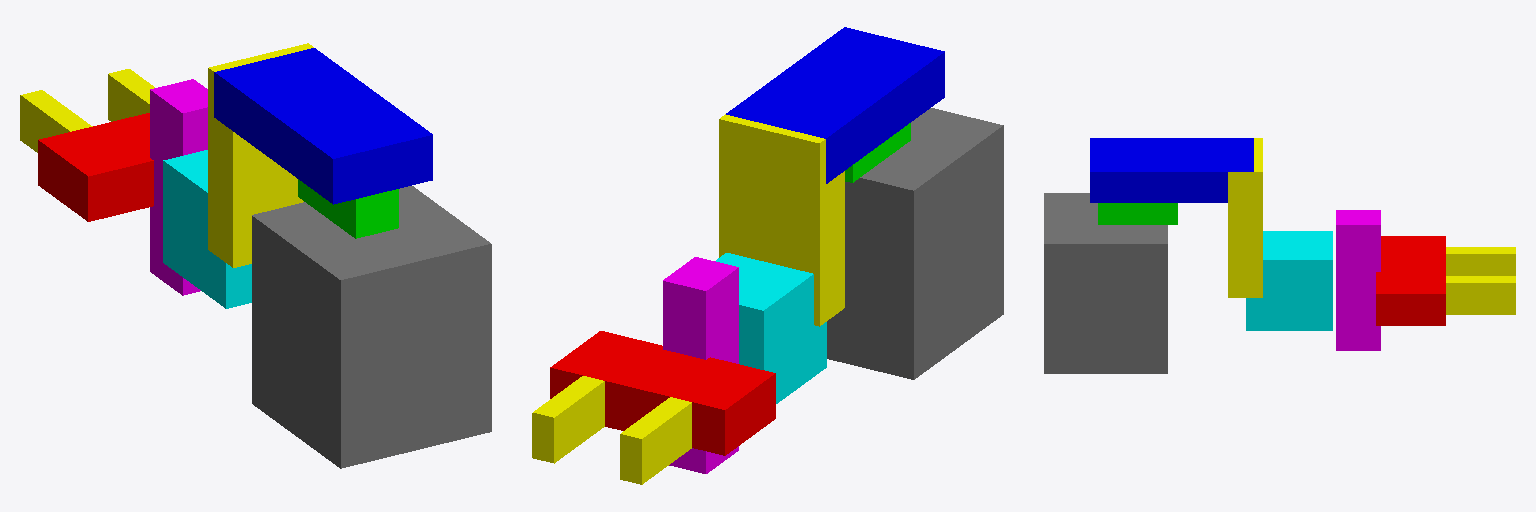
URDF robot description (my_robot):
<?xml version="1.0" ?>
<!-- =================================================================================== -->
<!-- |    This document was autogenerated by xacro from robotic_arm.urdf.xacro         | -->
<!-- |    EDITING THIS FILE BY HAND IS NOT RECOMMENDED                                 | -->
<!-- =================================================================================== -->
<robot name="my_robot">
  <material name="grey">
    <color rgba="0.5 0.5 0.5 1.0"/>
  </material>
  <material name="red">
    <color rgba="1.0 0.0 0.0 1.0"/>
  </material>
  <material name="green">
    <color rgba="0.0 1.0 0.0 1.0"/>
  </material>
  <material name="blue">
    <color rgba="0.0 0.0 1.0 1.0"/>
  </material>
  <material name="yellow">
    <color rgba="1.0 1.0 0.0 1.0"/>
  </material>
  <material name="cyan">
    <color rgba="0.0 1.0 1.0 1.0"/>
  </material>
  <material name="magenta">
    <color rgba="1.0 0.0 1.0 1.0"/>
  </material>
  <!-- Links definations -->
  <!-- FOOTPRINT -->
  <link name="arm_base_footprint"/>
  <!-- BASE LINK STATIC -->
  <link name="arm_base_link">
    <visual>
      <geometry>
        <box size="0.088 0.09 0.105"/>
      </geometry>
      <origin rpy="0 0 0" xyz="0 0 0.0525"/>
      <material name="grey"/>
    </visual>
    <collision>
      <geometry>
        <box size="0.088 0.09 0.105"/>
      </geometry>
      <origin rpy="0 0 0" xyz="0 0 0.0525"/>
    </collision>
    <inertial>
      <origin rpy="0 0 0" xyz="0 0 0.0525"/>
      <mass value="0.5"/>
      <inertia ixx="0.0031281666666666662" ixy="0" ixz="0" iyy="0.002640666666666666" iyz="0" izz="0.0031874999999999994"/>
    </inertial>
  </link>
  <!-- LINK1 This is between first servos1 and 2 -->
  <link name="link1">
    <visual>
      <geometry>
        <box size="0.0254 0.05842 0.0254"/>
      </geometry>
      <origin rpy="0 0 0" xyz="0 0.023368 0.0127"/>
      <material name="green"/>
    </visual>
    <collision>
      <geometry>
        <box size="0.0254 0.05842 0.0254"/>
      </geometry>
      <origin rpy="0 0 0" xyz="0 0.023368 0.0127"/>
    </collision>
    <inertial>
      <origin rpy="0 0 0" xyz="0 0.023368 0.0127"/>
      <mass value="0.5"/>
      <inertia ixx="0.0002150533333333333" ixy="0" ixz="0" iyy="0.0006763427333333333" iyz="0" izz="0.0006763427333333333"/>
    </inertial>
  </link>
  <!-- LINK2 This is between servos2 and 3 -->
  <link name="link2">
    <visual>
      <geometry>
        <box size="0.0254 0.05842 0.12"/>
      </geometry>
      <origin rpy="0 -1.5708 1.5708" xyz="-0.02921 0.048 0.0127"/>
      <material name="blue"/>
    </visual>
    <collision>
      <geometry>
        <box size="0.0254 0.05842 0.08399999999999999"/>
      </geometry>
      <origin rpy="0 -1.5708 1.5708" xyz="-0.02921 0.048 0.0127"/>
    </collision>
    <inertial>
      <origin rpy="0 -1.5708 1.5708" xyz="-0.02921 0.048 0.0127"/>
      <mass value="0.5"/>
      <inertia ixx="0.0025075266666666667" ixy="0" ixz="0" iyy="0.0006763427333333333" iyz="0" izz="0.0029688160666666665"/>
    </inertial>
  </link>
  <!-- LINK3 This is between servos3 and 4 -->
  <link name="link3">
    <visual>
      <geometry>
        <box size="0.0254 0.05842 0.1016"/>
      </geometry>
      <origin rpy="0 0 1.5708" xyz="0.02921 0 -0.0508"/>
      <material name="yellow"/>
    </visual>
    <collision>
      <geometry>
        <box size="0.0254 0.05842 0.1016"/>
      </geometry>
      <origin rpy="0 0 1.5708" xyz="0.02921 0 -0.0508"/>
    </collision>
    <inertial>
      <origin rpy="0 0 1.5708" xyz="0.02921 0 -0.0508"/>
      <mass value="0.5"/>
      <inertia ixx="0.0018279533333333334" ixy="0" ixz="0" iyy="0.0006763427333333333" iyz="0" izz="0.0022892427333333332"/>
    </inertial>
  </link>
  <!-- LINK4 This is between servos4 and 5 -->
  <link name="link4">
    <visual>
      <geometry>
        <box size="0.0508 0.05715 0.0635"/>
      </geometry>
      <origin rpy="1.5708 0 0" xyz="0.028575 0.03175 0"/>
      <material name="cyan"/>
    </visual>
    <collision>
      <geometry>
        <box size="0.0508 0.05715 0.050800000000000005"/>
      </geometry>
      <origin rpy="1.5708 0 0" xyz="0.028575 0.0396875 0"/>
    </collision>
    <inertial>
      <origin rpy="1.5708 0 0" xyz="0.028575 0.03175 0"/>
      <mass value="0.5"/>
      <inertia ixx="0.0011021483333333332" ixy="0" ixz="0" iyy="0.0009744604166666666" iyz="0" izz="0.0012163954166666668"/>
    </inertial>
  </link>
  <!-- LINK5 This is between servos5 and 6 -->
  <link name="link5">
    <visual>
      <geometry>
        <box size="0.0254 0.03302 0.1016"/>
      </geometry>
      <origin rpy="0 0 0" xyz="0 0.012700000000000001 0"/>
      <material name="magenta"/>
    </visual>
    <collision>
      <geometry>
        <box size="0.0254 0.03302 0.1016"/>
      </geometry>
      <origin rpy="0 0 0" xyz="0 0.012700000000000001 0"/>
    </collision>
    <inertial>
      <origin rpy="0 0 0" xyz="0 0.012700000000000001 0"/>
      <mass value="0.5"/>
      <inertia ixx="0.0018279533333333334" ixy="0" ixz="0" iyy="0.0002892467333333333" iyz="0" izz="0.0019021467333333333"/>
    </inertial>
  </link>
  <!-- hand This is between servos5 and 6 -->
  <link name="hand">
    <visual>
      <geometry>
        <box size="0.1016 0.0508 0.0254"/>
      </geometry>
      <origin rpy="0 0 0" xyz="0 0.0508 0"/>
      <material name="red"/>
    </visual>
    <collision>
      <geometry>
        <box size="0.1016 0.0508 0.0254"/>
      </geometry>
      <origin rpy="0 0 0" xyz="0 0.0508 0"/>
    </collision>
    <inertial>
      <origin rpy="0 0 0" xyz="0 0 0"/>
      <mass value="0.5"/>
      <inertia ixx="0.0005376333333333333" ixy="0" ixz="0" iyy="0.0008602133333333332" iyz="0" izz="0.0005376333333333333"/>
    </inertial>
  </link>
  <link name="hand_leftfinger">
    <visual>
      <geometry>
        <box size="0.0127 0.0508 0.0254"/>
      </geometry>
      <origin rpy="0 0 0" xyz="-0.0254 0.1016 0"/>
      <material name="yellow"/>
    </visual>
    <collision>
      <geometry>
        <box size="0.0127 0.0508 0.0254"/>
      </geometry>
      <origin rpy="0 0 0" xyz="-0.0254 0.1016 0"/>
    </collision>
    <inertial>
      <origin rpy="0 0 0" xyz="0 0 0"/>
      <mass value="0.5"/>
      <inertia ixx="0.00013440833333333333" ixy="0" ixz="0" iyy="0.00045698833333333334" iyz="0" izz="0.0005376333333333333"/>
    </inertial>
  </link>
  <link name="hand_rightfinger">
    <visual>
      <geometry>
        <box size="0.0127 0.0508 0.0254"/>
      </geometry>
      <origin rpy="0 0 0" xyz="0.0254 0.1016 0"/>
      <material name="yellow"/>
    </visual>
    <collision>
      <geometry>
        <box size="0.0127 0.0508 0.0254"/>
      </geometry>
      <origin rpy="0 0 0" xyz="0.0254 0.1016 0"/>
    </collision>
    <inertial>
      <origin rpy="0 0 0" xyz="0 0 0"/>
      <mass value="0.5"/>
      <inertia ixx="0.00013440833333333333" ixy="0" ixz="0" iyy="0.00045698833333333334" iyz="0" izz="0.0005376333333333333"/>
    </inertial>
  </link>
  <!--JOINTS-->
  <!--JOINT FROM FOOTPRINT TO BASE-->
  <joint name="arm_base_joint" type="fixed">
    <parent link="arm_base_footprint"/>
    <child link="arm_base_link"/>
    <origin rpy="0 0 0" xyz="0 0 0"/>
  </joint>
  <!--JOINT FROM BASE TO LINK1-->
  <joint name="base_link1_joint" type="revolute">
    <parent link="arm_base_link"/>
    <child link="link1"/>
    <origin rpy="0 0 0" xyz="0 0 0.105"/>
    <axis xyz="0 0 1"/>
    <limit effort="100" lower="0" upper="3.141592653589793" velocity="100"/>
    <dynamic damping="0.1" friction="0.05"/>
  </joint>
  <!--JOINT FROM LINK1 TO LINK2-->
  <joint name="link1_link2_joint" type="revolute">
    <parent link="link1"/>
    <child link="link2"/>
    <origin rpy="0 0 0" xyz="0.02921 0 0.0254"/>
    <axis xyz="1 0 0"/>
    <limit effort="100" lower="0" upper="3.141592653589793" velocity="100"/>
    <dynamic damping="0.1" friction="0.05"/>
  </joint>
  <!--JOINT FROM LINK2 TO LINK3-->
  <joint name="link2_link3_joint" type="revolute">
    <parent link="link2"/>
    <child link="link3"/>
    <origin rpy="0 0 0" xyz="-0.05842 0.1016 0.0254"/>
    <axis xyz="1 0 0"/>
    <limit effort="100" lower="0" upper="3.141592653589793" velocity="100"/>
    <dynamic damping="0.1" friction="0.05"/>
  </joint>
  <!--JOINT FROM LINK3 TO LINK4-->
  <joint name="link3_link4_joint" type="revolute">
    <parent link="link3"/>
    <child link="link4"/>
    <origin rpy="0 0 0" xyz="0 0 -0.1016"/>
    <axis xyz="-1 0 0"/>
    <limit effort="100" lower="0" upper="3.141592653589793" velocity="100"/>
    <dynamic damping="0.1" friction="0.05"/>
  </joint>
  <!--JOINT FROM LINK4 TO LINK5-->
  <joint name="link4_link5_joint" type="revolute">
    <parent link="link4"/>
    <child link="link5"/>
    <origin rpy="0 0 0" xyz="0.028575 0.06985 0"/>
    <axis xyz="0 1 0"/>
    <limit effort="100" lower="0" upper="3.141592653589793" velocity="100"/>
    <dynamic damping="0.1" friction="0.05"/>
  </joint>
  <!--JOINT FROM LINK5 TO HAND-->
  <joint name="link5_hand_joint" type="fixed">
    <parent link="link5"/>
    <child link="hand"/>
    <origin rpy="0 0 0" xyz="0 0 0"/>
  </joint>
  <joint name="hand_finger_joint1" type="prismatic">
    <parent link="hand"/>
    <child link="hand_leftfinger"/>
    <origin rpy="0 0 0" xyz="0 0 0"/>
    <axis xyz="1 0 0"/>
    <limit effort="20" lower="0.0" upper="0.019" velocity="0.2"/>
  </joint>
  <joint name="hand_finger_joint2" type="prismatic">
    <parent link="hand"/>
    <child link="hand_rightfinger"/>
    <origin rpy="0 0 0" xyz="0 0 0"/>
    <axis xyz="-1 0 0"/>
    <limit effort="20" lower="0.0" upper="0.019" velocity="0.2"/>
    <mimic joint="hand_finger_joint1"/>
  </joint>
</robot>

--- What the picture shows (computed from the rendered views, not written in the file) ---
The picture shows the robot from 3 angles, left to right: view 1: azimuth 30°, elevation 25°; view 2: azimuth 150°, elevation 25°; view 3: azimuth 270°, elevation 25°; orthographic projection.
Robot: my_robot — 10 links, 9 joints (5 revolute, 2 prismatic, 2 fixed); root link arm_base_footprint; default pose: every joint at zero.
Visible links, largest first — view 1: arm_base_link, link2, hand, link3, link4, link5, link1, hand_leftfinger, hand_rightfinger; view 2: arm_base_link, link3, link2, hand, link4, link5, hand_rightfinger, hand_leftfinger, link1; view 3: arm_base_link, link2, link4, hand, link5, link3, hand_rightfinger, hand_leftfinger, link1.
Link boxes in pixels (<box>): arm_base_link: <box>252,186,491,468</box>; link2: <box>214,48,432,204</box>; hand: <box>38,113,153,221</box>; link3: <box>208,43,313,267</box>; link4: <box>163,150,251,308</box>; link5: <box>150,79,207,295</box>; link1: <box>298,179,398,238</box>; hand_leftfinger: <box>20,90,92,152</box>; hand_rightfinger: <box>108,69,154,121</box>; arm_base_link: <box>827,108,1003,379</box>; link3: <box>719,114,844,326</box>; link2: <box>726,27,944,183</box>; hand: <box>550,331,775,455</box>; link4: <box>716,253,826,403</box>; link5: <box>663,257,738,473</box>; hand_rightfinger: <box>532,376,604,463</box>; hand_leftfinger: <box>620,397,691,484</box>; link1: <box>845,123,910,182</box>; arm_base_link: <box>1044,193,1167,373</box>; link2: <box>1090,138,1253,202</box>; link4: <box>1246,231,1332,330</box>; hand: <box>1376,236,1445,325</box>; link5: <box>1336,210,1380,350</box>; link3: <box>1228,138,1262,297</box>; hand_rightfinger: <box>1446,276,1515,314</box>; hand_leftfinger: <box>1446,247,1515,275</box>; link1: <box>1098,203,1177,224</box>.
Size in the robot's own frame: 0.1016 by 0.3435 by 0.1558 metres.
Geometry: primitives only (box / cylinder / sphere), no mesh files.